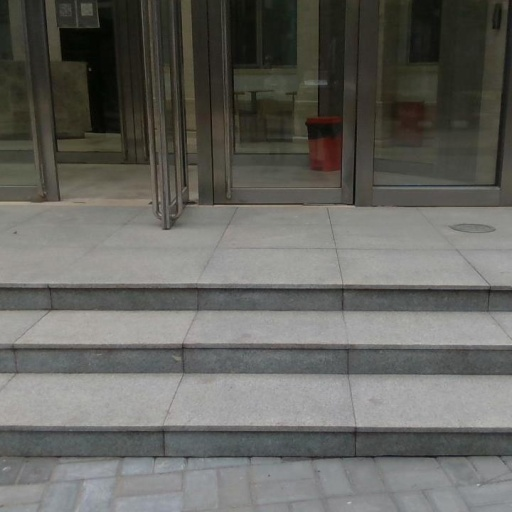Stairs: (0, 286, 512, 456)
